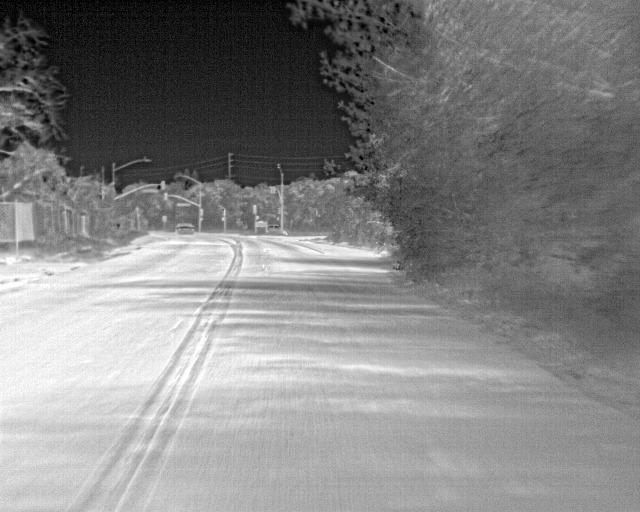car: (175, 223, 195, 237)
light: (270, 186, 275, 194), (161, 181, 165, 190), (253, 205, 256, 214), (164, 193, 167, 200), (200, 209, 203, 216), (222, 210, 225, 216), (255, 216, 259, 220), (222, 217, 224, 222), (200, 218, 203, 221)
sign: (142, 189, 159, 193), (177, 203, 190, 207), (163, 216, 167, 221)
